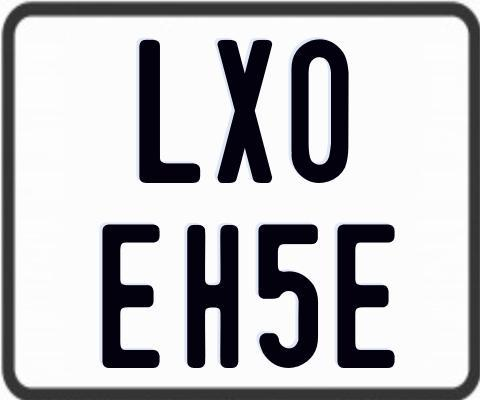0: (289, 38, 351, 183)
5: (255, 224, 318, 370)
E: (101, 221, 165, 368), (336, 223, 394, 371)
H: (185, 225, 236, 368)
L: (136, 37, 200, 186)
X: (214, 38, 272, 186)
